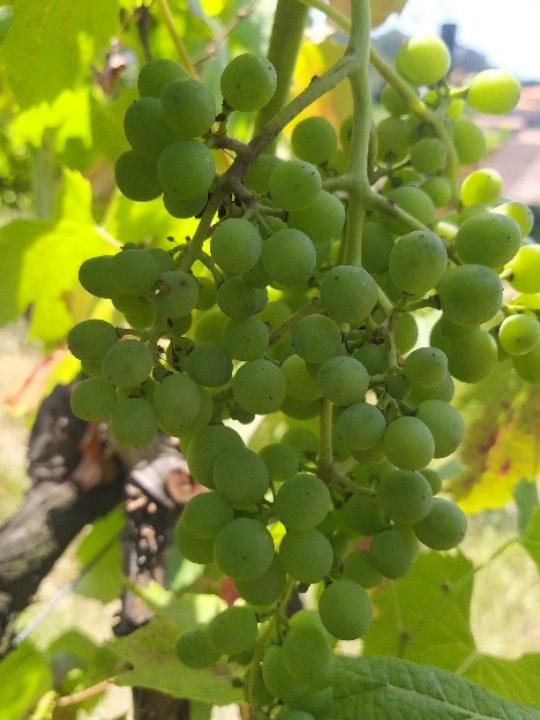grape: (66, 33, 540, 720)
